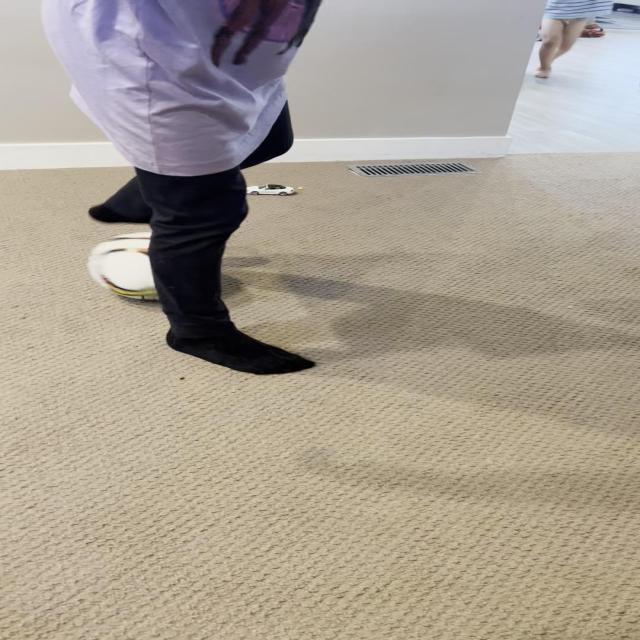Soccer Ball: (91, 229, 214, 300)
